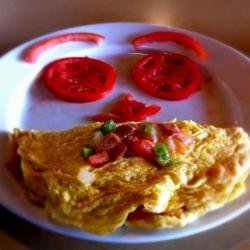omelette: (18, 125, 248, 227)
